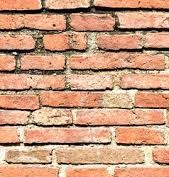brick: (25, 126, 112, 145), (41, 91, 134, 108), (72, 54, 169, 70), (56, 149, 147, 165), (77, 110, 166, 126), (1, 14, 67, 29), (117, 127, 169, 146), (1, 75, 66, 89), (70, 73, 115, 92), (96, 31, 140, 50), (117, 12, 169, 28), (42, 33, 86, 51), (121, 74, 169, 89), (70, 14, 114, 30), (33, 110, 73, 126), (22, 55, 67, 69), (5, 150, 52, 163), (135, 91, 169, 108), (1, 33, 34, 50), (114, 166, 169, 176), (1, 167, 61, 176), (1, 94, 39, 108), (143, 31, 169, 49), (67, 168, 112, 177), (1, 1, 44, 10), (45, 1, 92, 9), (94, 1, 169, 6), (1, 111, 28, 124), (1, 129, 22, 144), (151, 148, 169, 164), (1, 55, 16, 70)
